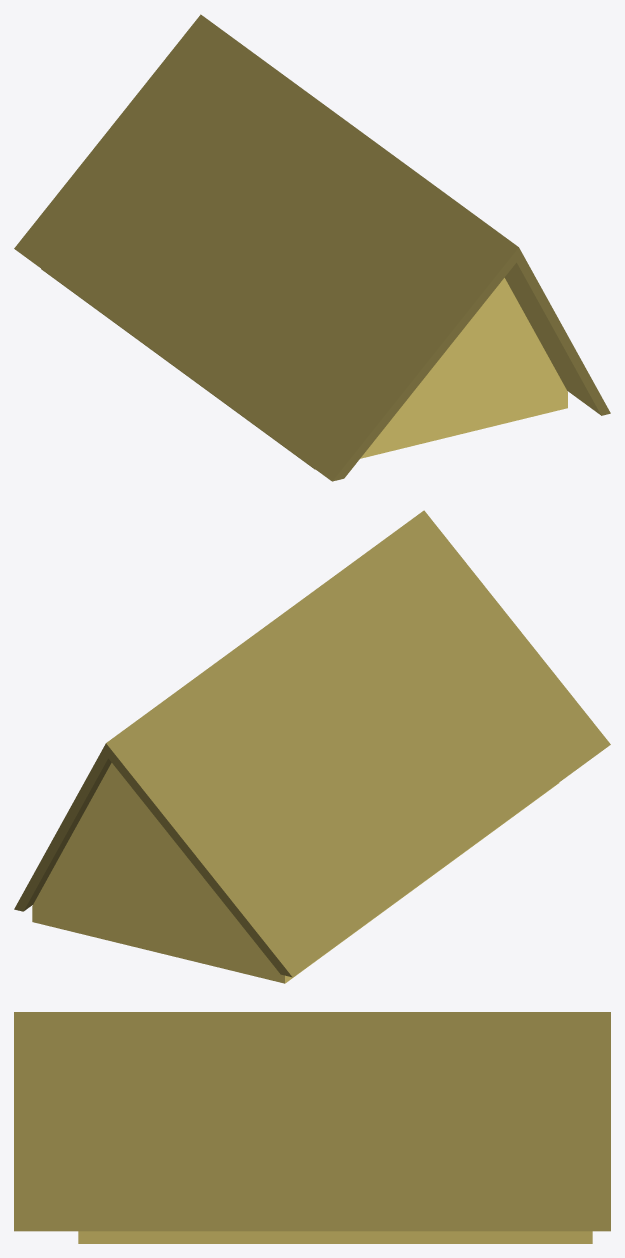
Rendered from result.glb.
The picture shows the model from 3 angles, top to bottom: view 1: azimuth 30°, elevation 25°; view 2: azimuth 150°, elevation 25°; view 3: azimuth 270°, elevation 25°; orthographic projection. The views are drawn at different scales.
Visible parts, largest first — view 1: 2c4589f3-e85f-4b23-99b0-b8d9d8a58b9f__undefined (×2), edc612da-4cd2-4eb6-be7f-777f92d1cf3b__undefined; view 2: 2c4589f3-e85f-4b23-99b0-b8d9d8a58b9f__undefined (×2), edc612da-4cd2-4eb6-be7f-777f92d1cf3b__undefined; view 3: 2c4589f3-e85f-4b23-99b0-b8d9d8a58b9f__undefined, edc612da-4cd2-4eb6-be7f-777f92d1cf3b__undefined.
Part boxes in pixels (x1,y1,x2,y2): 2c4589f3-e85f-4b23-99b0-b8d9d8a58b9f__undefined (×2): (14, 14, 610, 481); edc612da-4cd2-4eb6-be7f-777f92d1cf3b__undefined: (41, 269, 567, 469); 2c4589f3-e85f-4b23-99b0-b8d9d8a58b9f__undefined (×2): (14, 510, 610, 977); edc612da-4cd2-4eb6-be7f-777f92d1cf3b__undefined: (32, 763, 558, 983); 2c4589f3-e85f-4b23-99b0-b8d9d8a58b9f__undefined: (14, 1012, 610, 1231); edc612da-4cd2-4eb6-be7f-777f92d1cf3b__undefined: (78, 1231, 592, 1243).
Bounding box in the file's own units: 830 × 587 × 1641.
